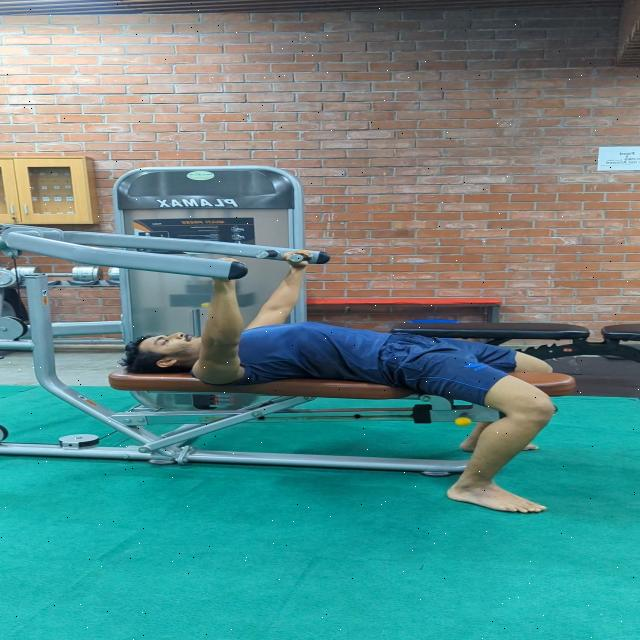Normal_BrenchPress: (112, 230, 598, 517)
